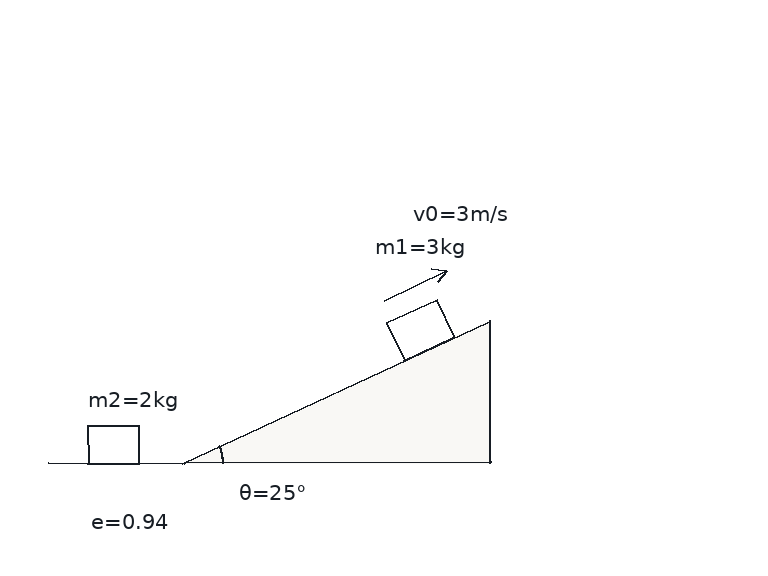block: (384, 298, 456, 362), (85, 424, 141, 465)
ramp: (181, 318, 491, 465)
